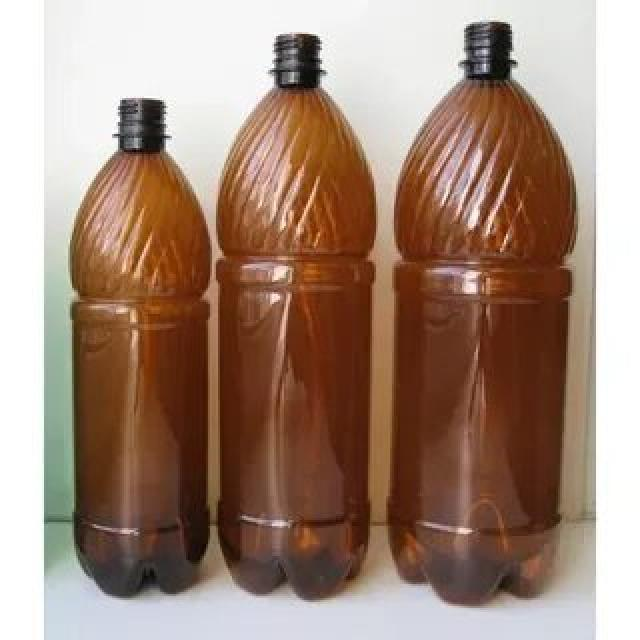brown: (397, 22, 578, 605), (215, 33, 373, 597), (72, 95, 208, 595)
